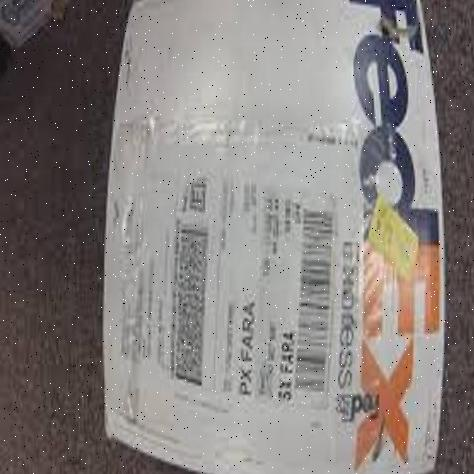FedEx: (108, 1, 442, 474)
